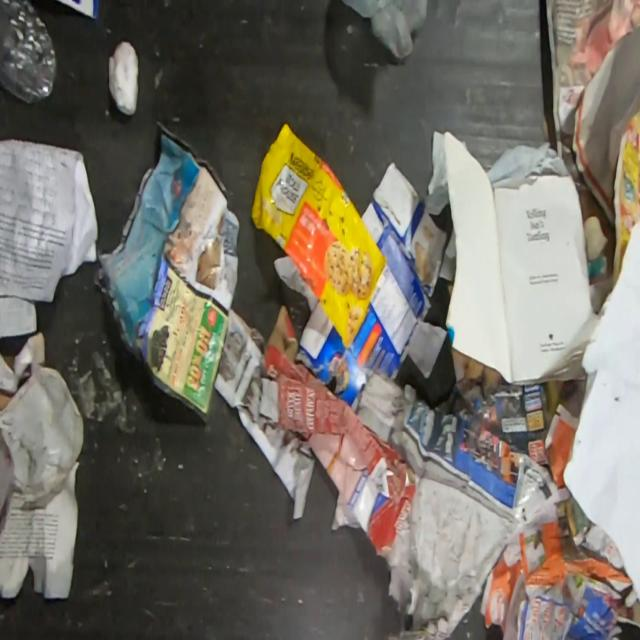cardboard: (259, 304, 417, 560), (296, 161, 448, 407)
rigid_plastic: (0, 0, 57, 105)
soft_plastic: (250, 122, 388, 348), (0, 362, 84, 511), (342, 0, 429, 59)
